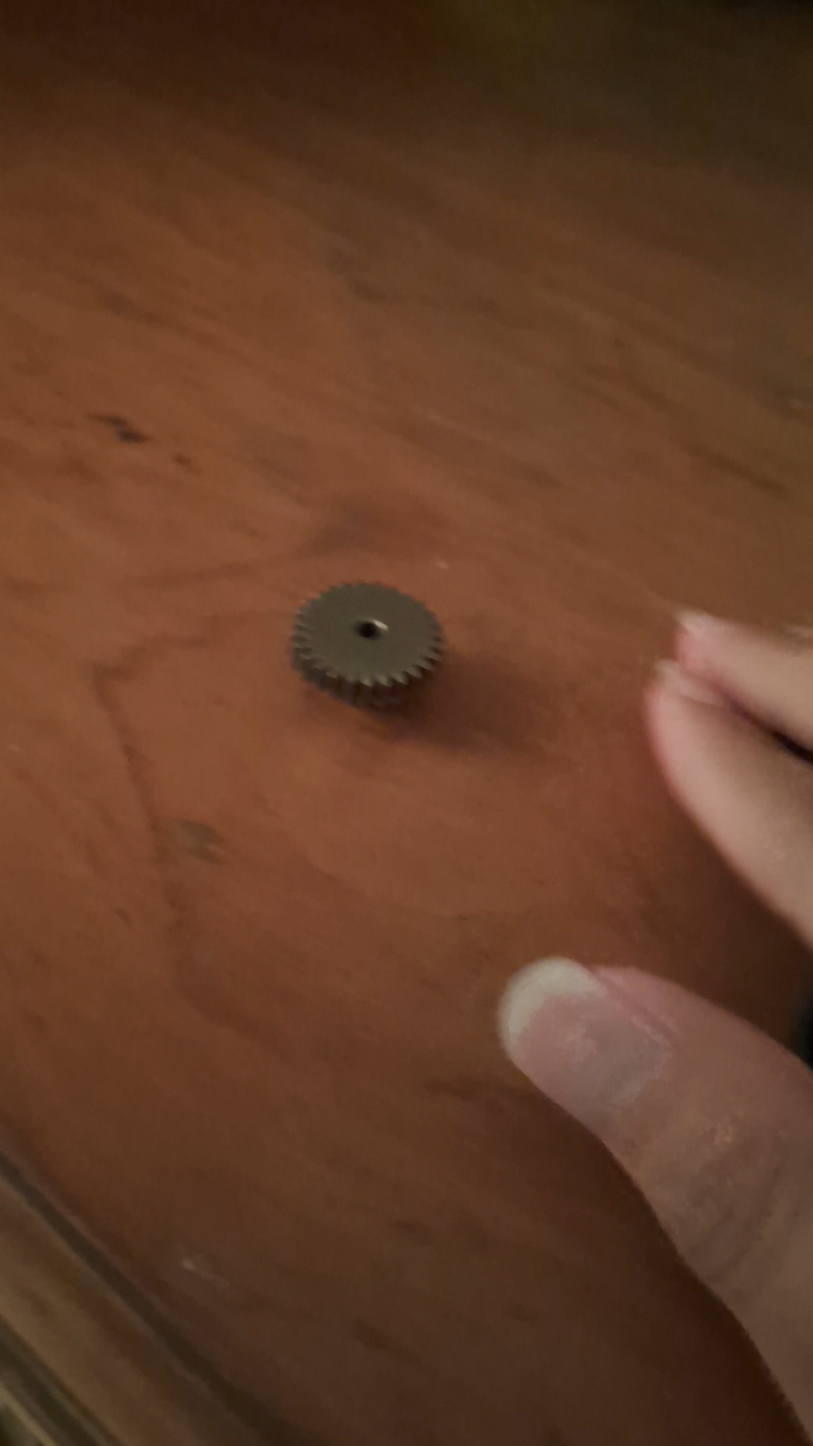spur gear: (291, 584, 442, 709)
